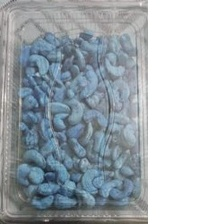plastic_box: (0, 0, 148, 224)
